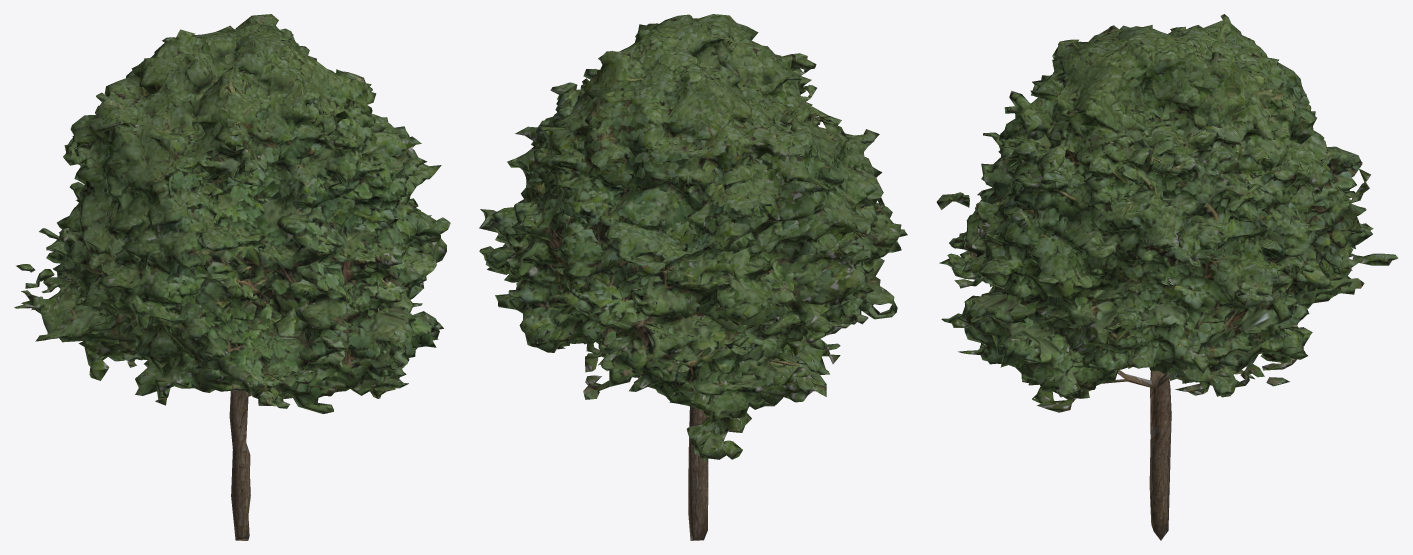
File: StreetTree.glb
3 renders of one model, left to right at view 1: azimuth 30°, elevation 25°; view 2: azimuth 150°, elevation 25°; view 3: azimuth 270°, elevation 25°, orthographic.
Parts seen in each view (by area): view 1: texture_mapping; view 2: texture_mapping; view 3: texture_mapping.
Part boxes in pixels (left/top/right/bottom): texture_mapping: left=14, top=14, right=450, bottom=540; texture_mapping: left=479, top=14, right=907, bottom=540; texture_mapping: left=936, top=14, right=1397, bottom=540.
Bounding box in the file's own units: 0.6104 × 0.801 × 0.6511.
1 material, 1 textured.
